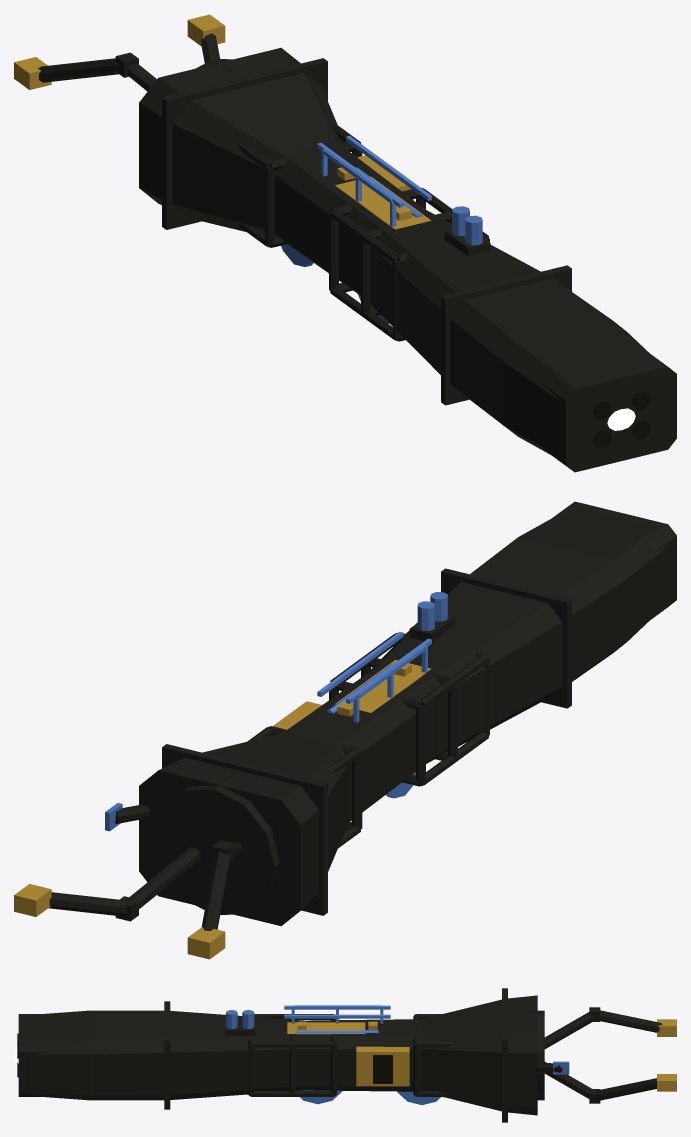
The picture shows the model from 3 angles, top to bottom: view 1: azimuth 30°, elevation 25°; view 2: azimuth 150°, elevation 25°; view 3: azimuth 270°, elevation 25°; orthographic projection. The views are drawn at different scales.
Parts seen in each view (by area): view 1: RIMWARD_HULL; view 2: RIMWARD_HULL; view 3: RIMWARD_HULL.
Boxes of the visible parts, box(x1,y1,x2,y2) form: RIMWARD_HULL: box(14, 14, 676, 472); RIMWARD_HULL: box(14, 501, 676, 959); RIMWARD_HULL: box(17, 988, 676, 1122).
Bounding box in the file's own units: 2.47 × 1.75 × 11.23.
